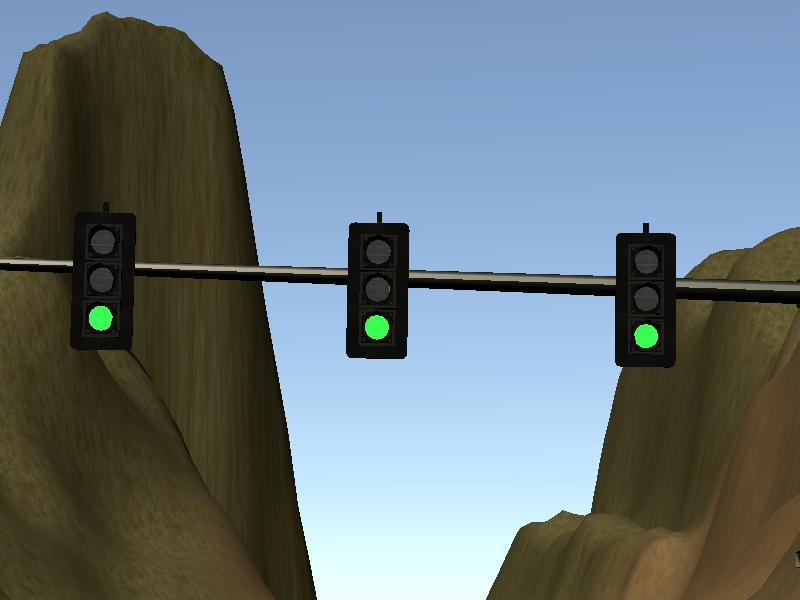Green: (74, 212, 133, 346), (350, 223, 406, 357), (618, 234, 675, 364)
